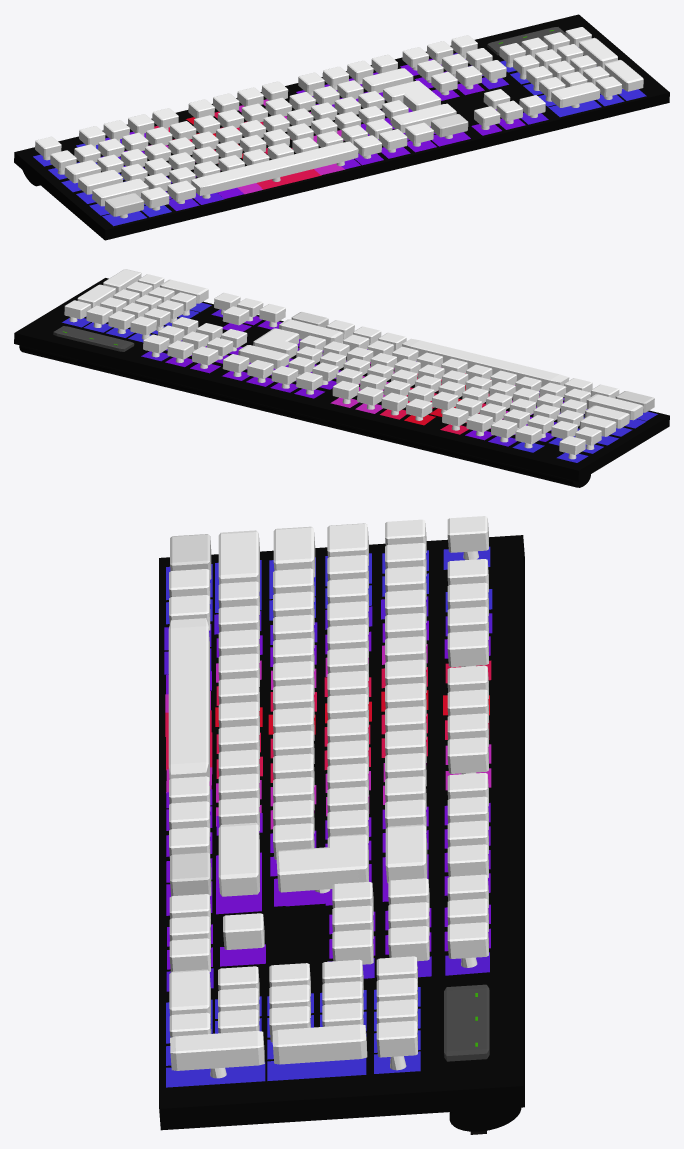
The model's file is keyboard_backlit_keyboard.glb.
The picture shows the model from 3 angles, top to bottom: view 1: azimuth 30°, elevation 25°; view 2: azimuth 150°, elevation 25°; view 3: azimuth 270°, elevation 25°; orthographic projection. The views are drawn at different scales.
Visible parts, largest first — view 1: Cube_0, Cube.006_6, Cube.007_7, Cube.008_8, Cube.009_9, Cube.016_16, Cube.002_2, Cube.004_4, Cube.003_3, Cube.032_31, Plane.090_165, Cube.011_11 (+28 smaller); view 2: Cube_0, Cube.006_6, Cylinder.032_69, Cube.007_7, Cube.008_8, Cube.009_9, Cube.016_16, Cube.002_2, Cube.004_4, Cube.003_3, Cube.032_31, Cube.005_5 (+20 smaller); view 3: Cube_0, Cube.006_6, Cube.008_8, Cube.007_7, Cube.009_9, Cube.016_16, Cube.003_3, Cube.002_2, Cube.004_4, Cube.027_27, Cube.032_31, Cube.005_5 (+31 smaller).
Boxes of the visible parts, x1,y1,x2,y2 form: Cube_0: (14,14,669,240); Cube.006_6: (50,80,363,170); Cube.007_7: (97,91,384,172); Cube.008_8: (121,100,408,181); Cube.009_9: (144,119,392,191); Cube.016_16: (191,141,358,195); Cube.002_2: (79,108,178,145); Cube.004_4: (298,54,397,93); Cube.003_3: (188,81,288,118); Cube.032_31: (499,27,591,63); Plane.090_165: (193,159,360,204); Cube.011_11: (431,60,506,92); Cube_0: (14,278,669,481); Cube.006_6: (288,356,601,445); Cylinder.032_69: (19,345,590,487); Cube.007_7: (296,346,583,426); Cube.008_8: (299,335,586,414); Cube.009_9: (343,334,590,402); Cube.016_16: (402,338,569,386); Cube.002_2: (442,407,541,444); Cube.004_4: (222,354,322,390); Cube.003_3: (332,380,432,417); Cube.032_31: (64,300,156,335); Cube.005_5: (143,334,218,365); Cube_0: (159,535,524,1130); Cube.006_6: (385,519,426,832); Cube.008_8: (273,568,314,859); Cube.007_7: (327,555,368,842); Cube.009_9: (218,581,259,830); Cube.016_16: (168,618,209,781); Cube.003_3: (447,665,488,773); Cube.002_2: (447,559,488,667); Cube.004_4: (447,773,488,877); Cube.027_27: (276,834,368,892); Cube.032_31: (376,956,417,1057); Cube.005_5: (447,874,488,958).
Size of the model in its own units: 5.93 by 0.4247 by 1.66.
